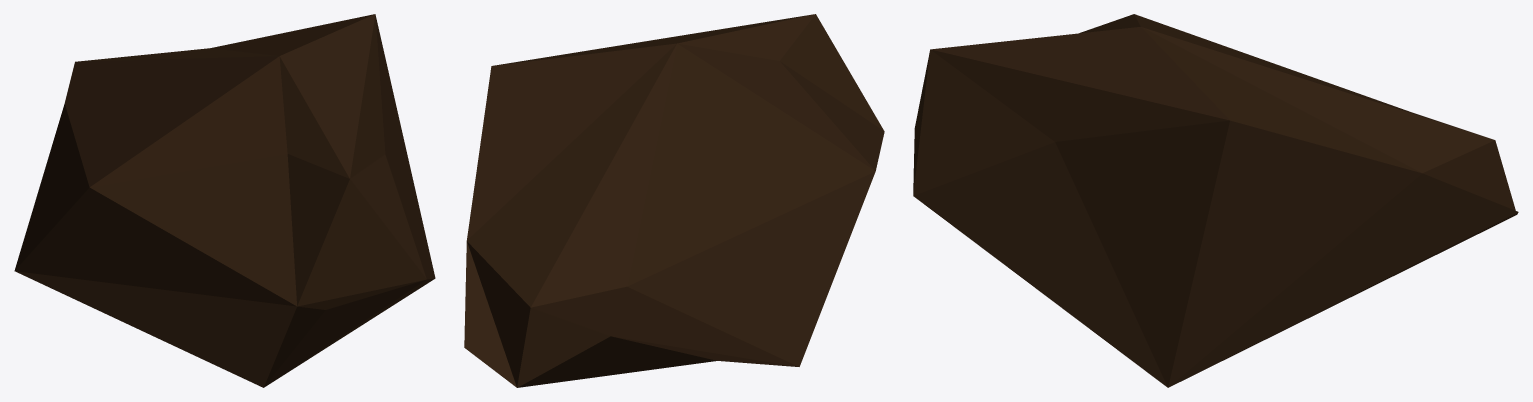
Rendered from SFFA_Coal.fbx.
The picture shows the model from 3 angles, left to right: view 1: azimuth 30°, elevation 25°; view 2: azimuth 150°, elevation 25°; view 3: azimuth 270°, elevation 25°; orthographic projection.
Visible parts, largest first — view 1: SFFA_Coal; view 2: SFFA_Coal; view 3: SFFA_Coal.
Boxes of the visible parts, x1=… form: SFFA_Coal: x1=14, y1=14, x2=435, y2=387; SFFA_Coal: x1=464, y1=14, x2=884, y2=387; SFFA_Coal: x1=913, y1=14, x2=1518, y2=387.
Bounding box in the file's own units: 6.38 × 5.32 × 9.1.
